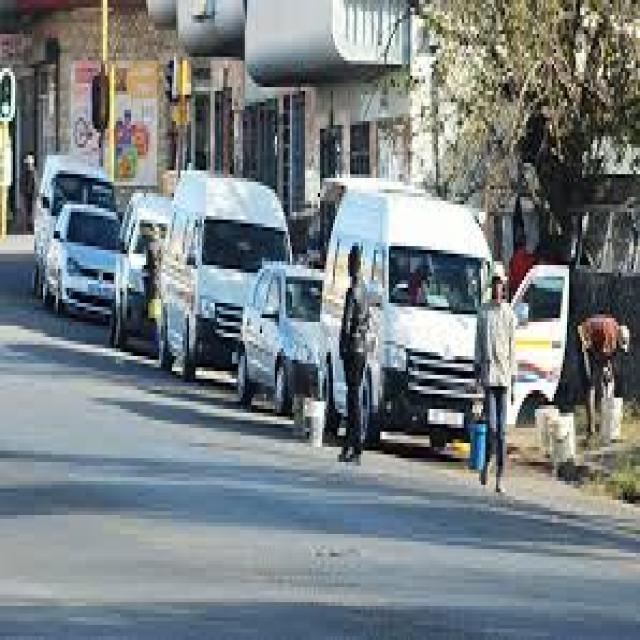MiniBus taxi: (316, 208, 509, 470), (157, 178, 294, 420)
Passenger Car: (240, 254, 333, 432), (40, 193, 124, 345)
Pedestrians: (473, 254, 524, 507), (337, 238, 378, 466)
